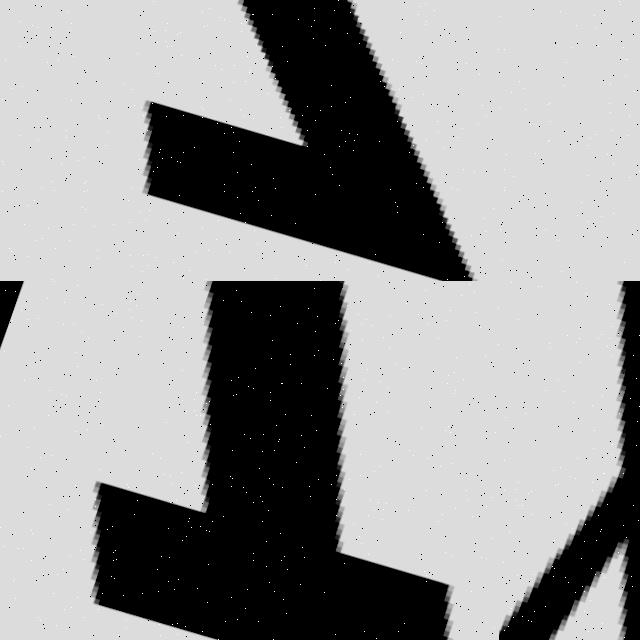N: (499, 0, 640, 281)
T: (15, 281, 499, 640)
X: (499, 281, 640, 640)
Z: (0, 0, 499, 281)
